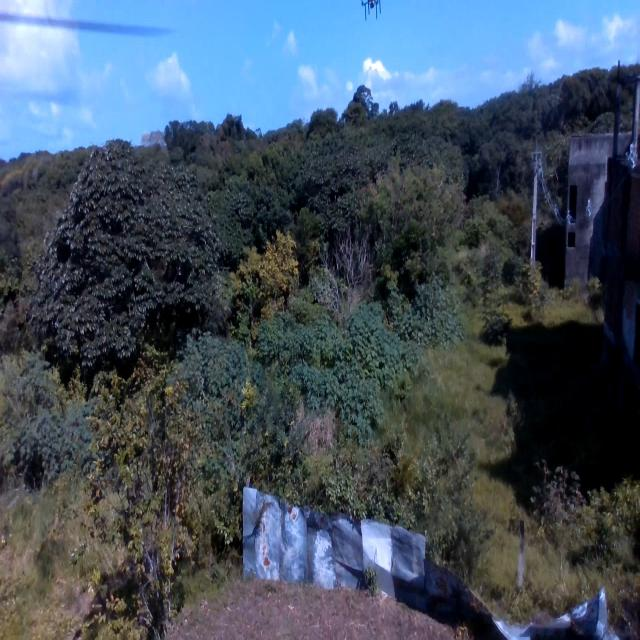-uav-: (358, 1, 391, 24)
